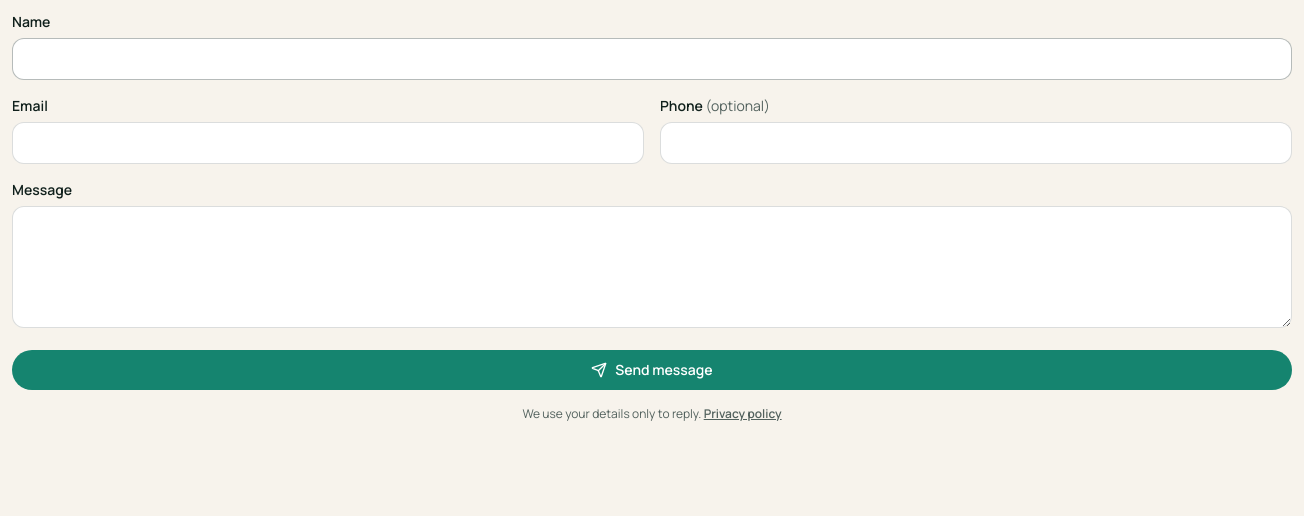
InquiryForm › shows per-field errors without sending an invalid form
Click the button "Send message": coordinates (652, 370) top-left (12, 350), bottom-right (1292, 390)
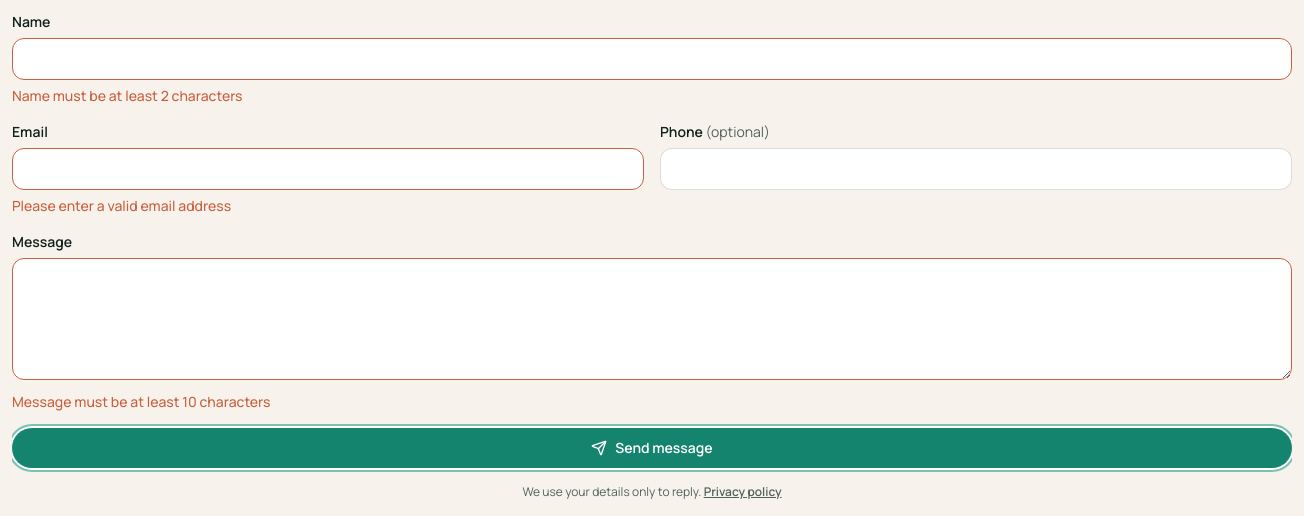
Now the text "Name must be at least 2 characters" is shown, box top-left (12, 86), bottom-right (243, 105)
